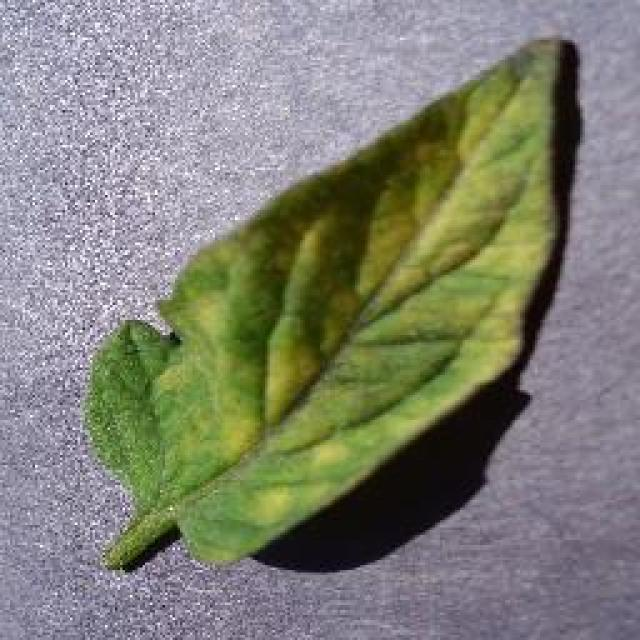Tomato___Leaf_Mold: (85, 40, 560, 565)
